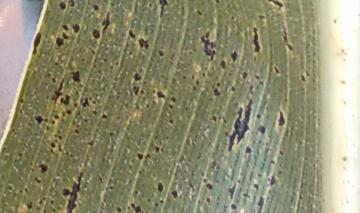tarspot: (227, 98, 254, 154), (61, 172, 85, 213), (199, 32, 218, 63), (278, 24, 296, 54), (28, 31, 45, 57), (250, 25, 262, 56), (53, 76, 64, 107), (276, 106, 289, 129), (264, 1, 289, 12), (155, 1, 171, 17), (100, 11, 111, 32), (256, 195, 268, 213), (154, 87, 168, 102), (227, 180, 237, 201), (70, 68, 82, 85), (36, 161, 49, 175), (131, 200, 146, 212), (190, 74, 199, 93), (89, 28, 102, 41), (130, 71, 144, 83), (138, 37, 150, 50), (268, 175, 280, 188), (240, 189, 252, 202), (55, 36, 66, 49), (229, 48, 239, 62), (71, 22, 81, 35), (59, 95, 72, 105), (272, 63, 280, 78), (257, 125, 267, 137), (34, 113, 44, 125), (99, 112, 111, 122), (126, 29, 137, 39), (18, 186, 29, 196), (80, 96, 89, 108), (6, 182, 15, 194), (156, 180, 164, 193), (170, 188, 178, 201), (156, 48, 166, 58), (213, 87, 222, 98), (229, 203, 240, 212), (106, 130, 117, 139), (298, 72, 306, 84), (153, 144, 161, 156), (256, 110, 263, 123), (24, 202, 34, 211), (60, 32, 70, 41), (65, 150, 75, 159), (88, 47, 98, 56), (17, 95, 26, 105), (194, 8, 205, 16), (131, 85, 139, 96), (57, 2, 68, 10), (61, 22, 68, 34), (53, 109, 60, 121), (143, 152, 152, 161), (33, 175, 43, 183), (67, 1, 77, 9), (252, 182, 260, 192), (151, 170, 158, 181), (249, 83, 255, 95), (219, 60, 227, 69), (91, 3, 99, 12), (133, 187, 141, 196), (18, 151, 25, 161), (73, 128, 81, 136), (57, 133, 65, 141), (80, 56, 88, 64), (137, 168, 145, 176), (167, 117, 176, 124), (241, 71, 248, 80), (205, 183, 214, 190), (115, 206, 124, 213), (66, 108, 73, 117), (108, 185, 117, 192), (96, 176, 105, 183), (41, 206, 51, 212), (167, 102, 175, 109), (136, 152, 143, 160), (88, 140, 95, 148), (205, 197, 213, 204), (49, 199, 57, 206), (257, 14, 266, 20), (170, 96, 179, 102), (254, 71, 260, 80), (269, 158, 276, 165), (277, 170, 284, 177), (102, 56, 109, 63), (128, 50, 135, 57), (211, 1, 223, 5), (211, 115, 217, 123), (182, 73, 188, 81), (109, 64, 115, 72), (46, 72, 52, 80), (49, 143, 58, 148), (257, 171, 262, 180), (201, 177, 208, 183), (279, 150, 286, 156), (201, 71, 207, 78), (158, 198, 164, 205), (114, 62, 121, 68), (40, 196, 48, 201), (44, 117, 50, 123), (51, 207, 57, 213), (216, 81, 222, 87), (139, 88, 144, 95), (231, 85, 236, 92), (83, 118, 89, 123), (51, 119, 56, 125), (154, 202, 160, 206), (38, 199, 41, 206), (46, 126, 51, 130)
